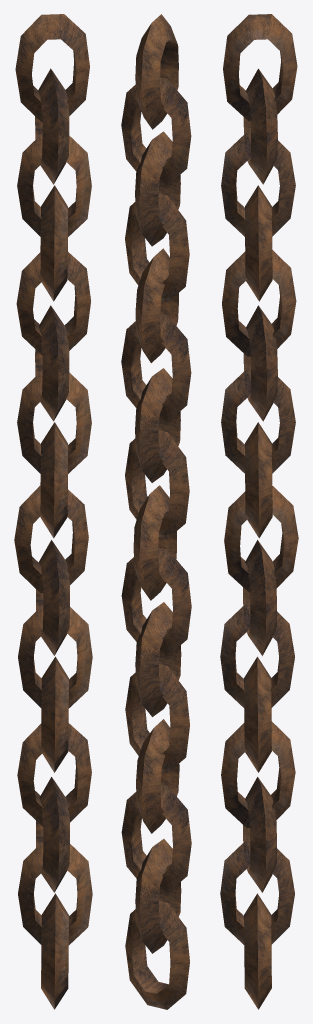
Rendered from sm_Chain_01_01.fbx.
3 renders of one model, left to right at view 1: azimuth 90°, elevation 25°; view 2: azimuth 150°, elevation 25°; view 3: azimuth 270°, elevation 25°, orthographic.
Visible parts, largest first — view 1: sm_Chain_01_01_LOD0; view 2: sm_Chain_01_01_LOD0; view 3: sm_Chain_01_01_LOD0.
Boxes of the visible parts, box(x1,y1,x2,y2) form: sm_Chain_01_01_LOD0: box(14, 14, 92, 1009); sm_Chain_01_01_LOD0: box(121, 14, 191, 1009); sm_Chain_01_01_LOD0: box(220, 14, 298, 1009).
Bounding box in the file's own units: 7.19 × 7.54 × 105.
